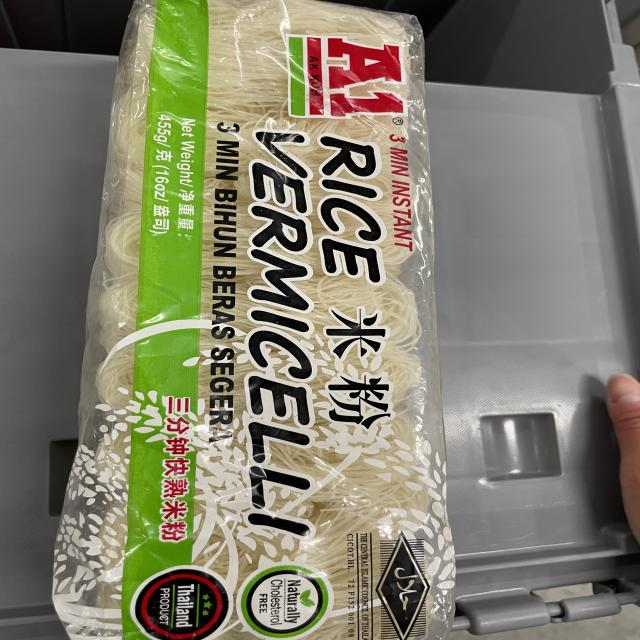object_name: (111, 0, 445, 640)
